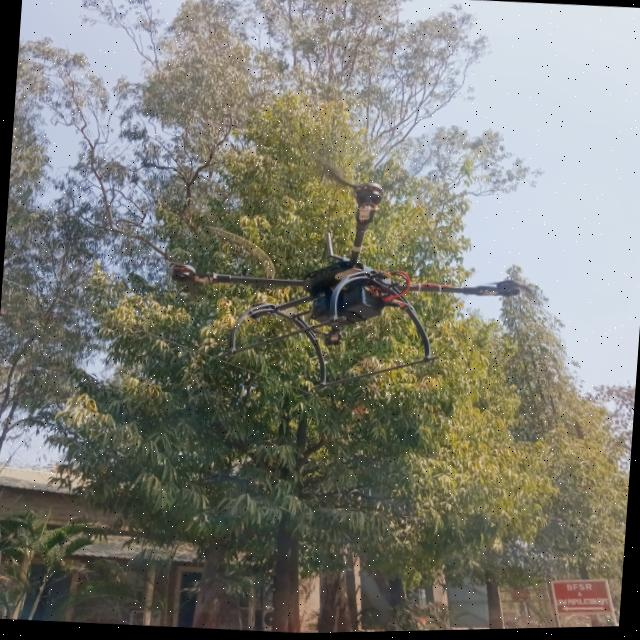drone: (112, 129, 581, 416)
